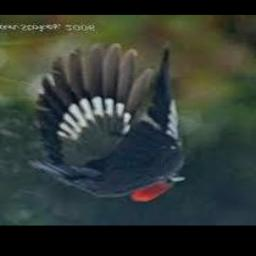Woodpecker: (28, 40, 185, 202)
